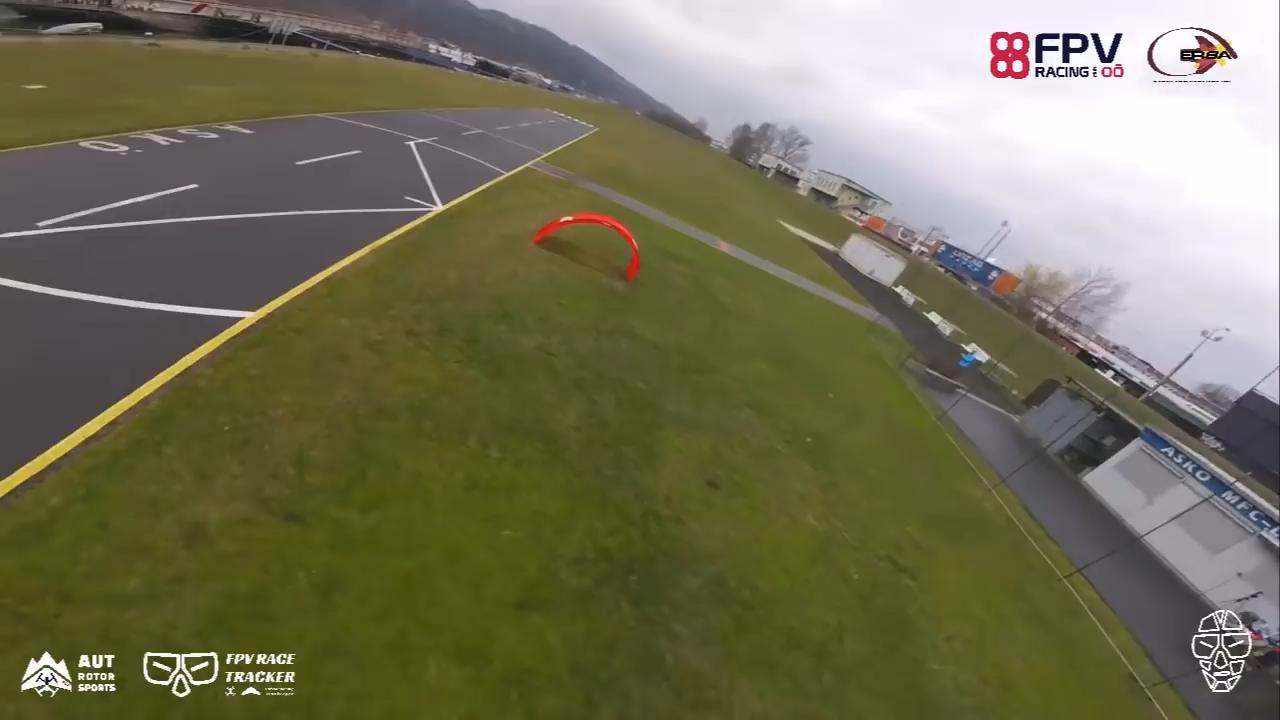gate: (530, 209, 641, 283)
